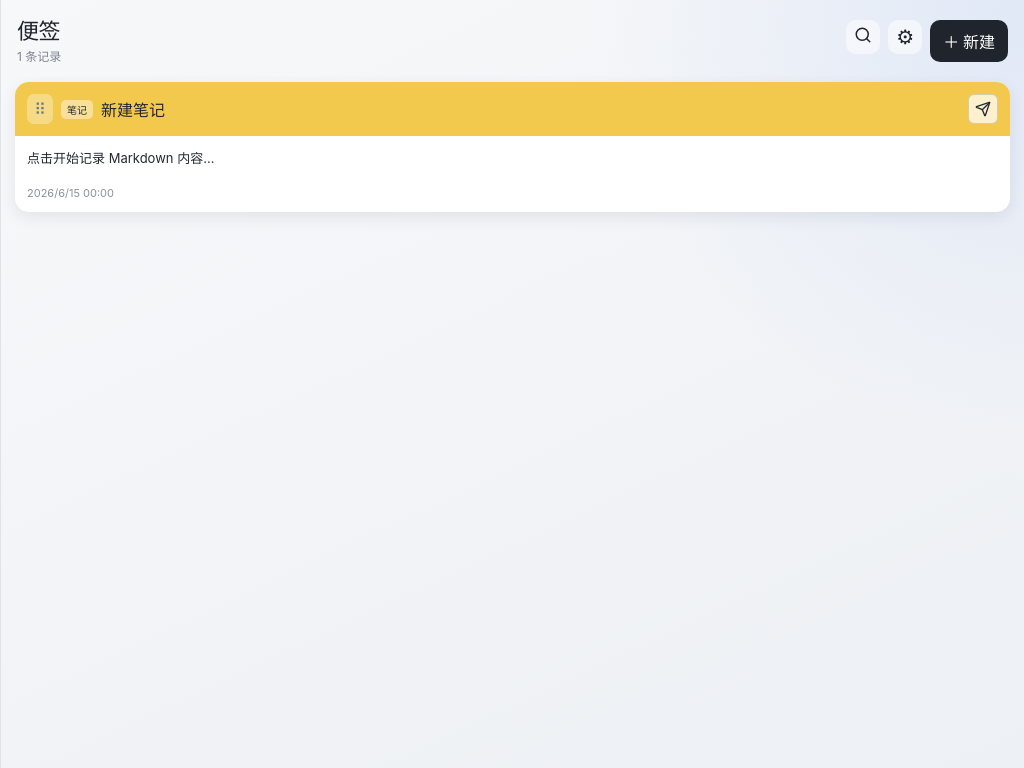
it: App creation flow › shows the error and leaves title delivery retryable
Click the button named "发送到思源".
click(983, 109)  # box x1=968 y1=94 x2=998 y2=124
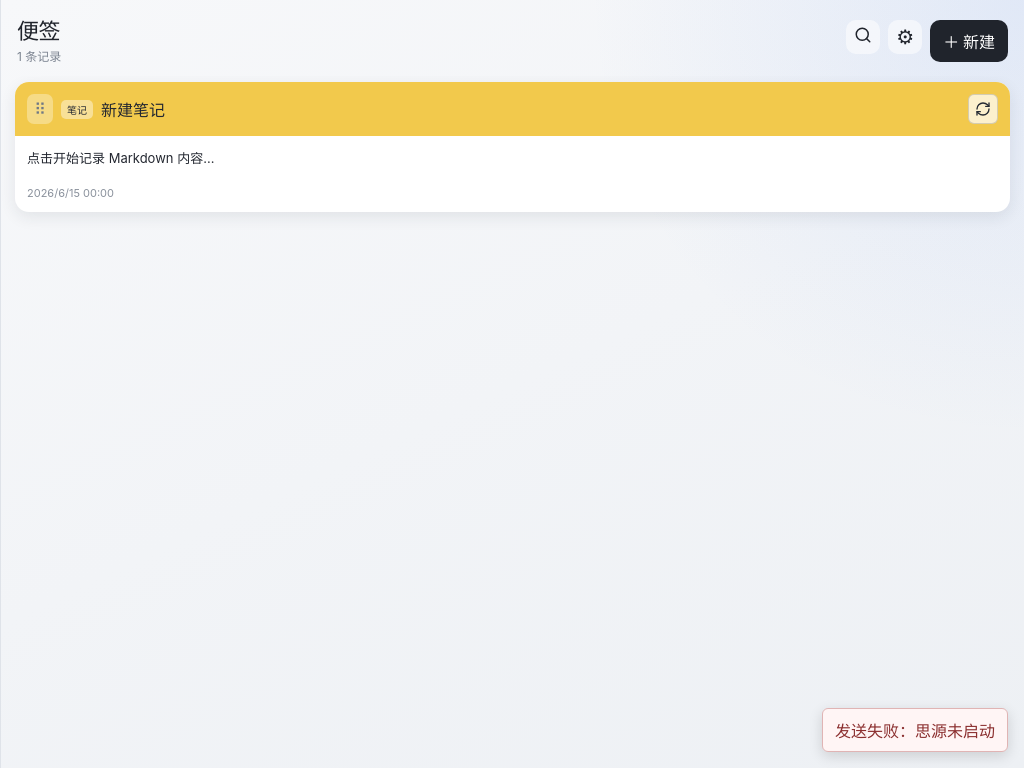
Now the message named "思源发送结果" reads "发送失败：思源未启动", box x1=835 y1=721 x2=995 y2=741
